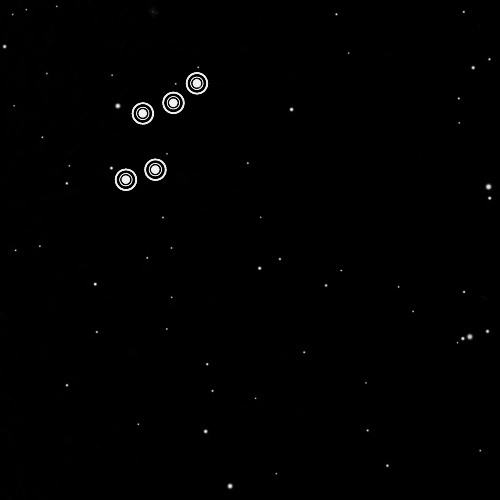lyra: (99, 52, 217, 203)
